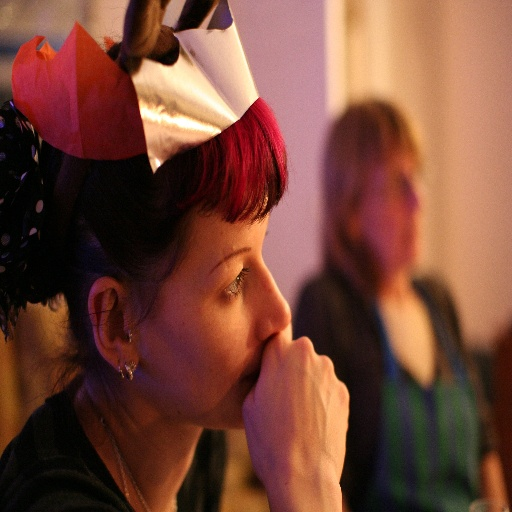hand: (237, 319, 359, 510)
